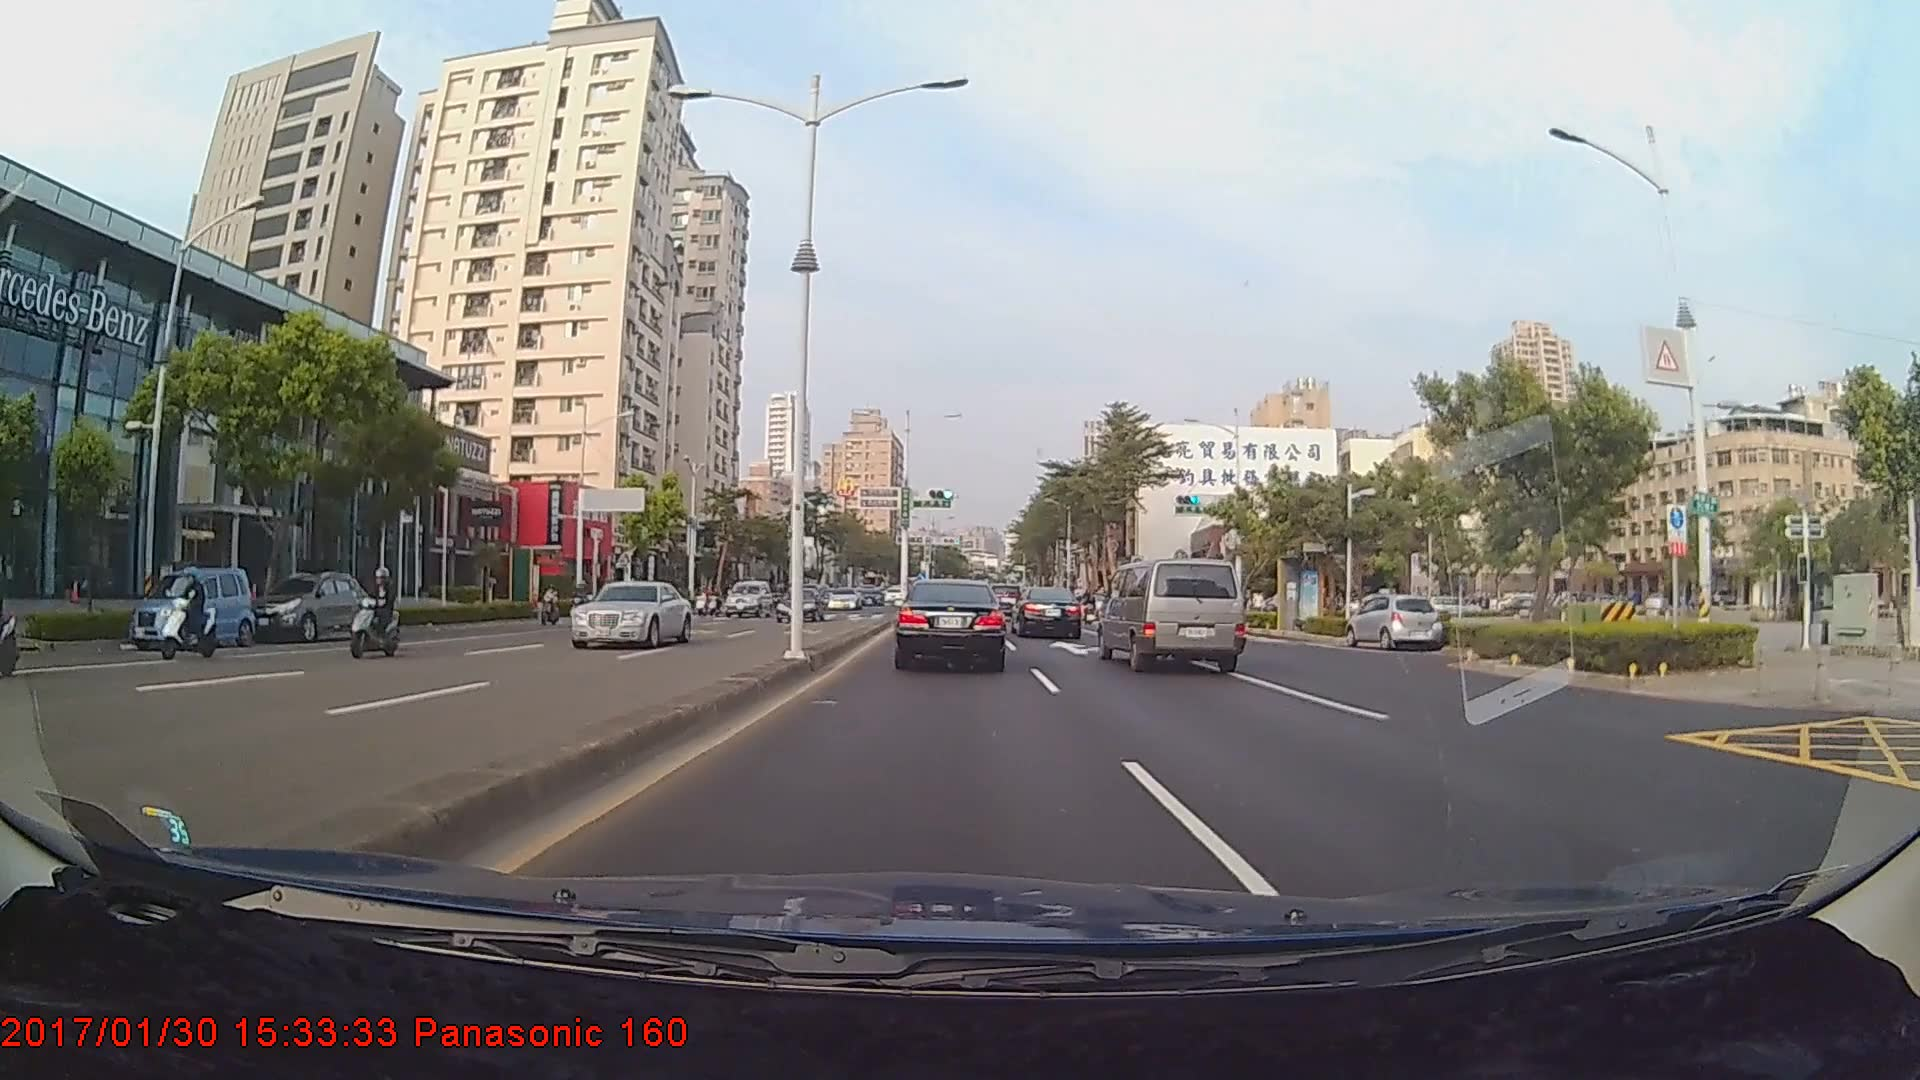rider: (152, 570, 229, 660), (346, 566, 400, 660), (350, 572, 405, 650)
vehicle: (1098, 553, 1246, 673), (127, 563, 254, 650), (896, 578, 1008, 670), (248, 571, 364, 648), (565, 580, 689, 650), (1346, 594, 1442, 651), (1010, 586, 1082, 639), (724, 581, 773, 619), (779, 590, 828, 625), (825, 589, 863, 612)
